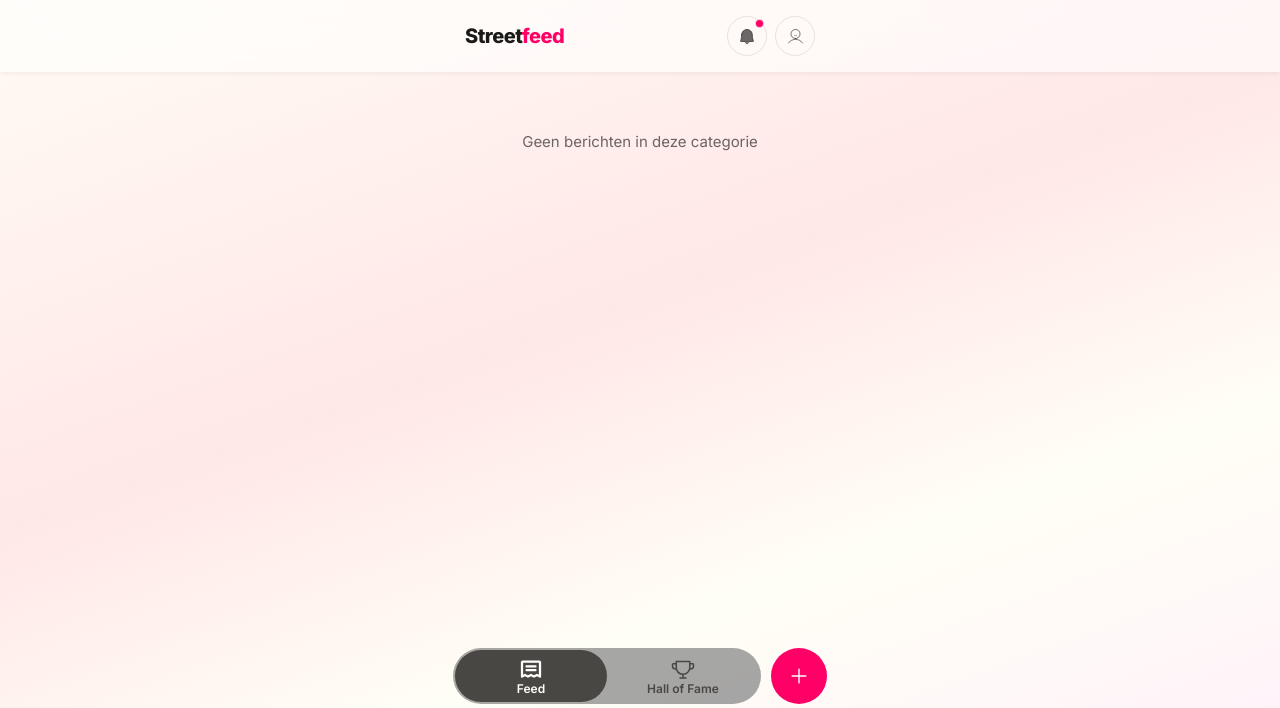
Test case: FRE-384: admin-queue notification deep link › a notification with a url but no post_id is tappable and navigates to Account
Click the button named "Notificaties": x=747, y=36 [727,16,767,56]
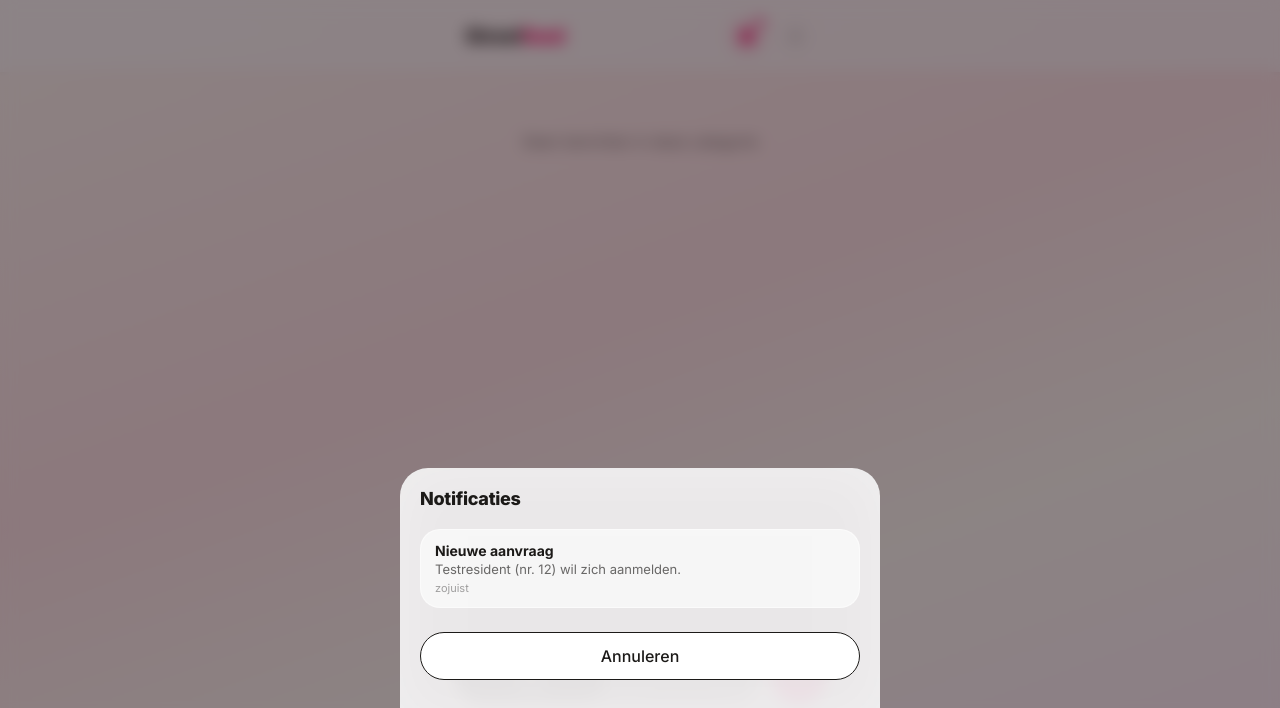
Click the button "Nieuwe aanvraag": x=640, y=568 [420,529,860,608]
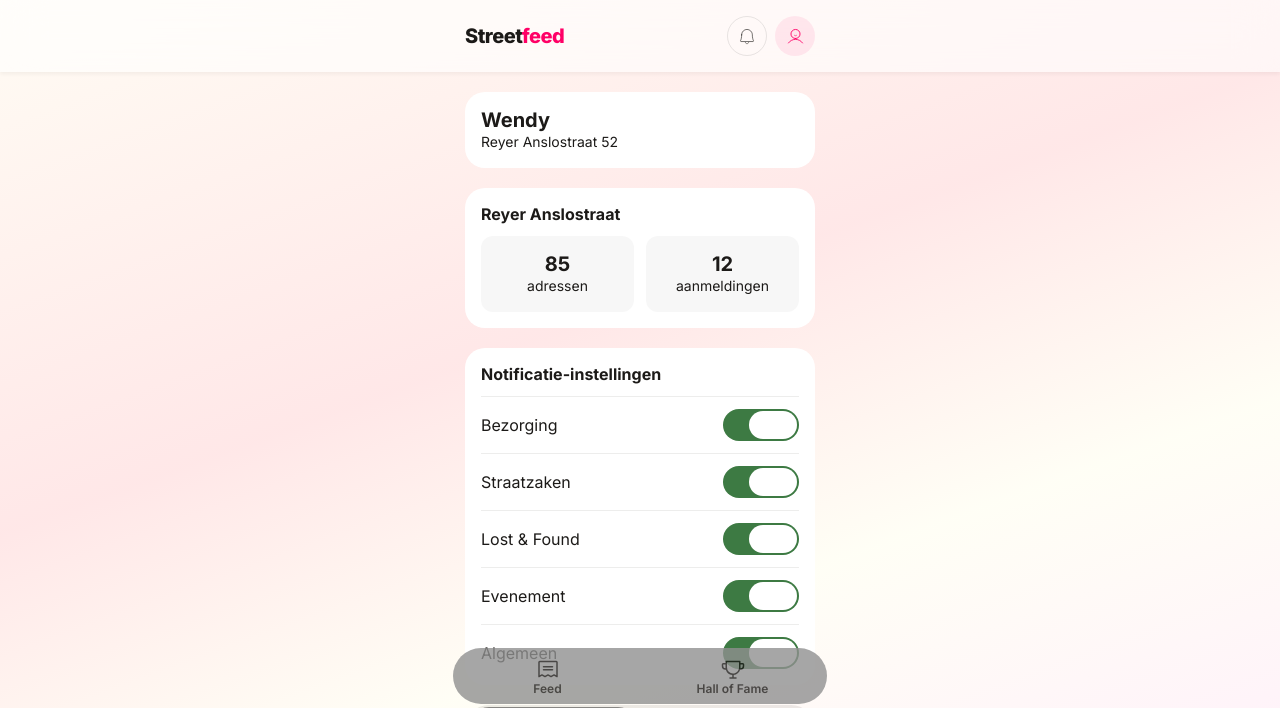
Result: the text "Reyer Anslostraat" is shown at [481,204,620,224]
